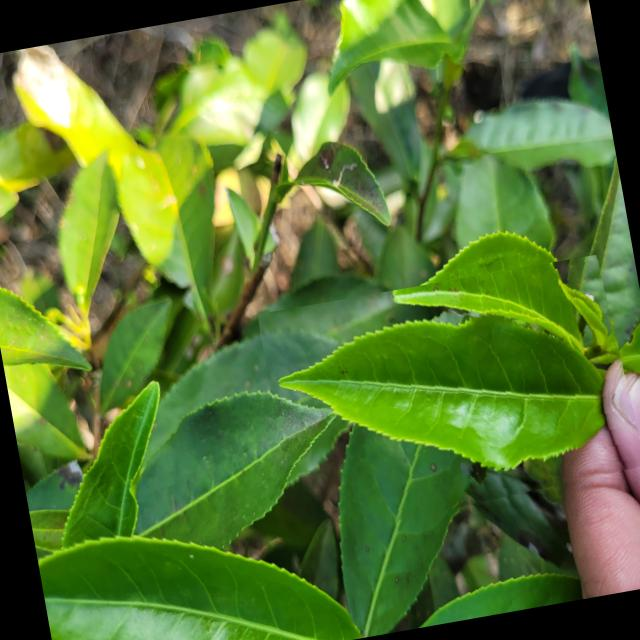Category B(2-4 days): (256, 250, 640, 540)
